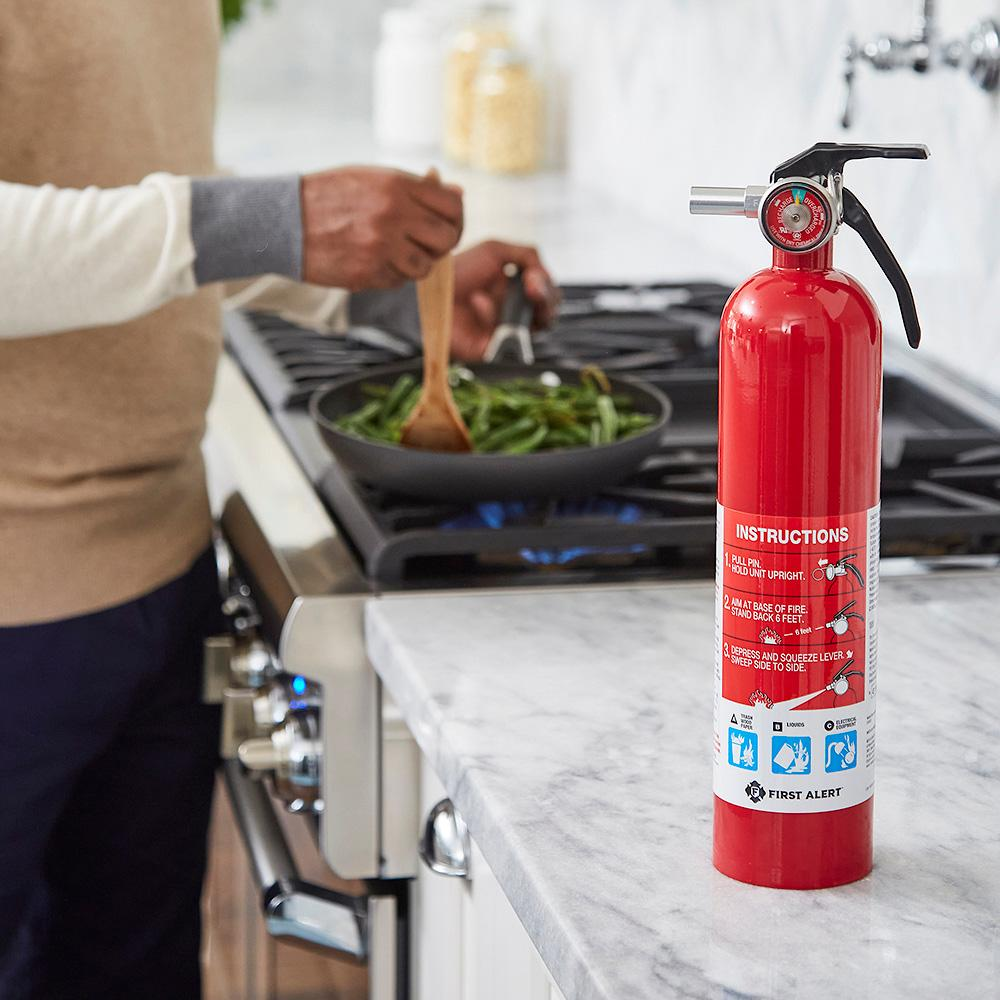Fire Extinguisher: (680, 115, 940, 895)
